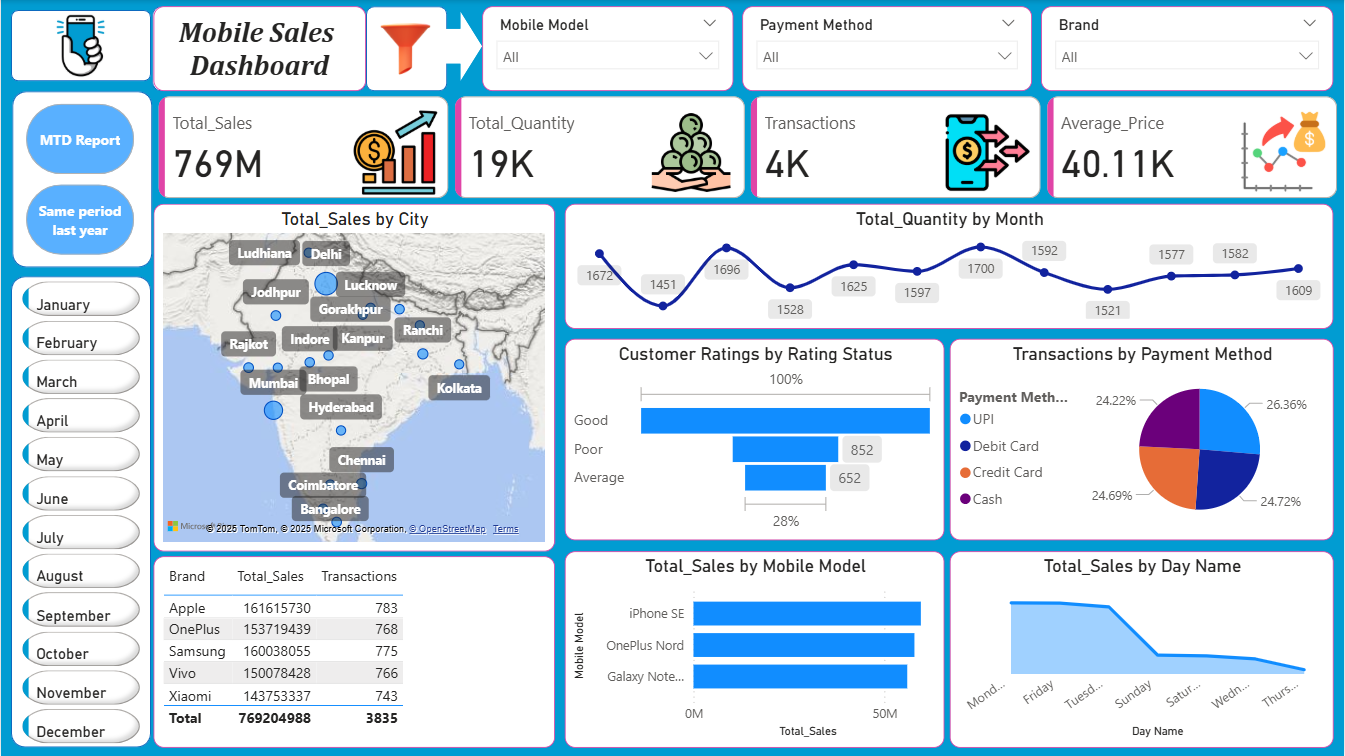

This screenshot's page, from the dashboard's own definition file:
{"tool":"powerbi","page":{"name":"Dashboard","canvas":[1280,720],"ordinal":0},"visuals":[{"type":"shape","box":[347.6,6,77.4,81],"z":0},{"type":"shape","box":[9.5,9.5,133.3,67.9],"z":1000},{"type":"image","box":[9.5,0,133.3,86.9],"z":2000},{"type":"shape","box":[9.5,263.1,133.3,448.8],"z":3000},{"type":"advancedSlicerVisual","fields":{"Values":["Custom_Calendar.Date.Variation.Date Hierarchy.Month"]},"box":[15.5,263.1,122.6,453.6],"z":4000},{"type":"cardVisual","fields":{"Data":["Mobile Sales Data.Total_Sales","Mobile Sales Data.Total_Quantity","Mobile Sales Data.Transactions","Mobile Sales Data.Average_Price"]},"box":[145.2,86.9,1134.5,107.1],"z":5000},{"type":"slicer","fields":{"Values":["Mobile Sales Data.Mobile Model"]},"box":[458.3,6,239.3,81],"z":6000},{"type":"slicer","fields":{"Values":["Mobile Sales Data.Payment Method"]},"box":[706,6,276.2,81],"z":7000},{"type":"shape","box":[10.7,86.9,133.3,167.9],"z":8000},{"type":"slicer","fields":{"Values":["Mobile Sales Data.Brand"]},"box":[990.5,6,278.6,81],"z":9000},{"type":"image","box":[345.2,10.7,79.8,70.2],"z":10000},{"type":"shape","box":[416.7,10.7,41.7,66.7],"z":11000},{"type":"shape","box":[144,6,203.6,81],"z":12000},{"type":"textbox","box":[145.2,6,202.4,81],"z":13000},{"type":"map","fields":{"Category":["Mobile Sales Data.City"],"Size":["Mobile Sales Data.Total_Sales"]},"box":[145.2,194,382.1,331],"z":14000},{"type":"lineChart","fields":{"Y":["Mobile Sales Data.Total_Quantity"],"Category":["Custom_Calendar.Date.Variation.Date Hierarchy.Month"]},"box":[536.9,194,732.1,119],"z":15000},{"type":"funnel","title":" Customer Ratings by Rating Status","fields":{"Category":["Mobile Sales Data.Rating Status"],"Y":["CountNonNull(Mobile Sales Data.Customer Age)"]},"box":[536.9,322.6,361.9,191.7],"z":16000},{"type":"pieChart","fields":{"Category":["Mobile Sales Data.Payment Method"],"Y":["Mobile Sales Data.Transactions"]},"box":[903.6,322.6,365.5,191.7],"z":17000},{"type":"clusteredBarChart","fields":{"Y":["Mobile Sales Data.Total_Sales"],"Category":["Mobile Sales Data.Mobile Model"]},"box":[536.9,525,361.9,186.9],"z":18000},{"type":"areaChart","fields":{"Y":["Mobile Sales Data.Total_Sales"],"Category":["Custom_Calendar.Day Name"]},"box":[903.6,525,365.5,186.9],"z":19000},{"type":"tableEx","fields":{"Values":["Mobile Sales Data.Brand","Mobile Sales Data.Total_Sales","Mobile Sales Data.Transactions"]},"box":[145.2,529.8,382.1,182.1],"z":20000},{"type":"pageNavigator","box":[23.8,98.8,103.6,145.2],"z":22000}]}

Visuals, with their boxes in screenshot pixels (x1, y1, x2, y2), scaled from the page's 1280x720 canvas onto the 1345x756 screenshot:
shape: <region>365, 6, 447, 91</region>
shape: <region>10, 10, 150, 81</region>
image: <region>10, 0, 150, 91</region>
shape: <region>10, 276, 150, 747</region>
advancedSlicerVisual - Custom_Calendar.Date.Variation.Date Hierarchy.Month: <region>16, 276, 145, 753</region>
cardVisual - Mobile Sales Data.Total_Sales x Mobile Sales Data.Total_Quantity: <region>153, 91, 1344, 204</region>
slicer - Mobile Sales Data.Mobile Model: <region>482, 6, 733, 91</region>
slicer - Mobile Sales Data.Payment Method: <region>742, 6, 1032, 91</region>
shape: <region>11, 91, 151, 268</region>
slicer - Mobile Sales Data.Brand: <region>1041, 6, 1334, 91</region>
image: <region>363, 11, 447, 85</region>
shape: <region>438, 11, 482, 81</region>
shape: <region>151, 6, 365, 91</region>
textbox: <region>153, 6, 365, 91</region>
map - Mobile Sales Data.City x Mobile Sales Data.Total_Sales: <region>153, 204, 554, 551</region>
lineChart - Mobile Sales Data.Total_Quantity x Custom_Calendar.Date.Variation.Date Hierarchy.Month: <region>564, 204, 1333, 329</region>
" Customer Ratings by Rating Status" funnel: <region>564, 339, 944, 540</region>
pieChart - Mobile Sales Data.Payment Method x Mobile Sales Data.Transactions: <region>949, 339, 1334, 540</region>
clusteredBarChart - Mobile Sales Data.Total_Sales x Mobile Sales Data.Mobile Model: <region>564, 551, 944, 747</region>
areaChart - Mobile Sales Data.Total_Sales x Custom_Calendar.Day Name: <region>949, 551, 1334, 747</region>
tableEx - Mobile Sales Data.Brand x Mobile Sales Data.Total_Sales: <region>153, 556, 554, 747</region>
pageNavigator: <region>25, 104, 134, 256</region>
